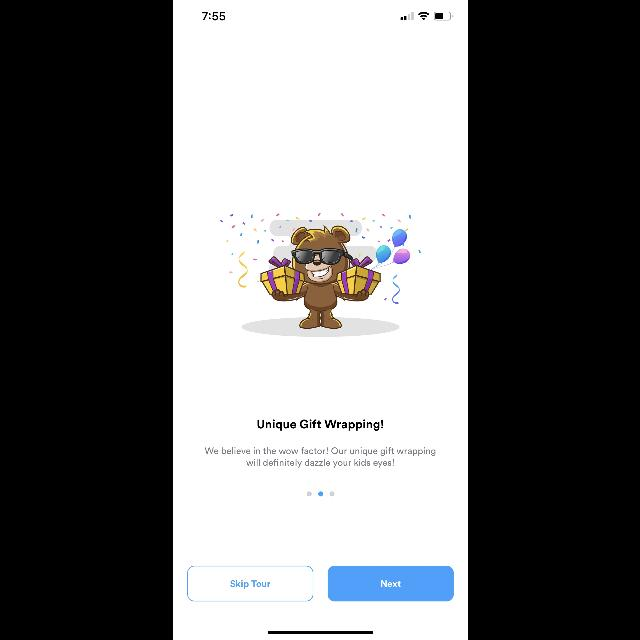image: (220, 214, 420, 336)
pageindicator: (306, 492, 334, 496)
text: (203, 447, 434, 467), (257, 420, 383, 430)
textbutton: (327, 566, 453, 600), (187, 566, 313, 600)
uppertaskbar: (202, 12, 452, 20)
